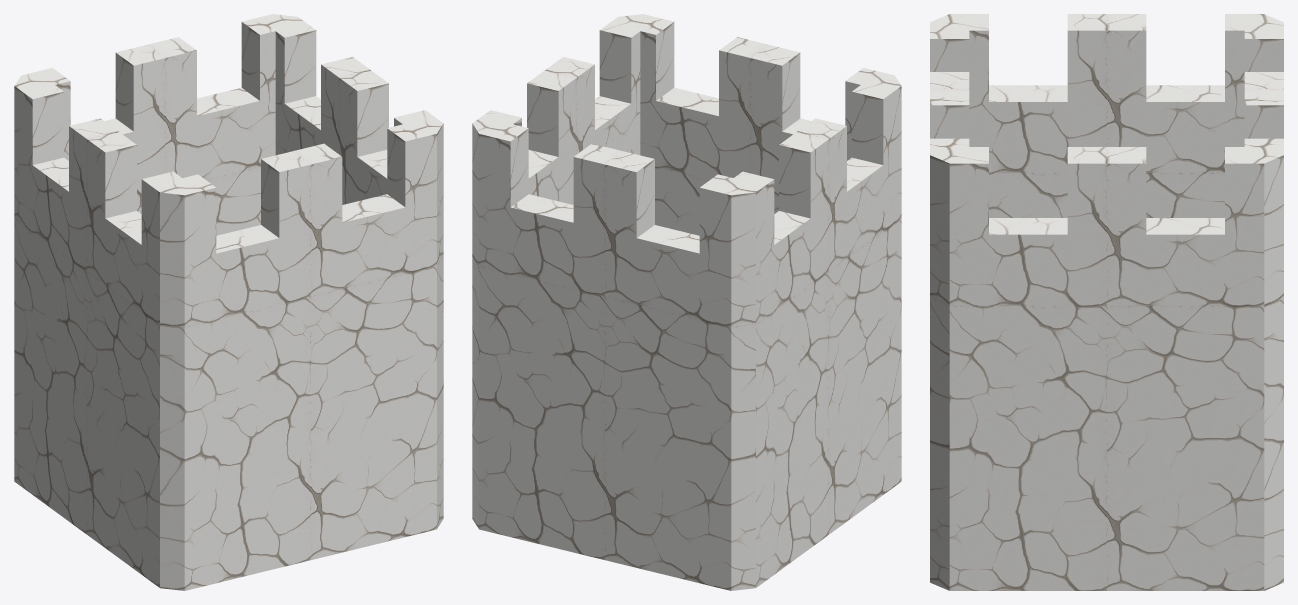
The model's file is rook-small-nofrill-nodoor-stone.obj.
3 renders of one model, left to right at view 1: azimuth 30°, elevation 25°; view 2: azimuth 150°, elevation 25°; view 3: azimuth 270°, elevation 25°, orthographic. The views are drawn at different scales.
Visible parts, largest first — view 1: wall_straight_3, battlement_corner_5, wall_straight_2, battlement_corner_6, wall_straight_4; view 2: wall_straight_4, battlement_corner_6, wall_straight_2, battlement_corner_5, wall_straight_3, wall_straight_1; view 3: wall_straight_1, battlement_corner_5, battlement_corner_6, wall_straight_2, wall_straight_3.
Boxes of the visible parts, box(x1,y1,x2,y2) form: wall_straight_3: box(160, 255, 443, 590); battlement_corner_5: box(160, 14, 443, 327); wall_straight_2: box(14, 218, 184, 590); battlement_corner_6: box(14, 14, 297, 323); wall_straight_4: box(137, 166, 260, 235); wall_straight_4: box(479, 265, 755, 590); battlement_corner_6: box(474, 75, 901, 327); wall_straight_2: box(732, 218, 901, 587); battlement_corner_5: box(472, 14, 900, 264); wall_straight_3: box(655, 166, 778, 235); wall_straight_1: box(472, 255, 478, 528); wall_straight_1: box(949, 298, 1283, 590); battlement_corner_5: box(930, 14, 1283, 305); battlement_corner_6: box(931, 14, 1283, 172); wall_straight_2: box(989, 173, 1224, 217); wall_straight_3: box(930, 298, 949, 590).
Size of the model in its own units: 1.13 by 1.5 by 1.13.
Materials: 1 (1 with a texture image).
